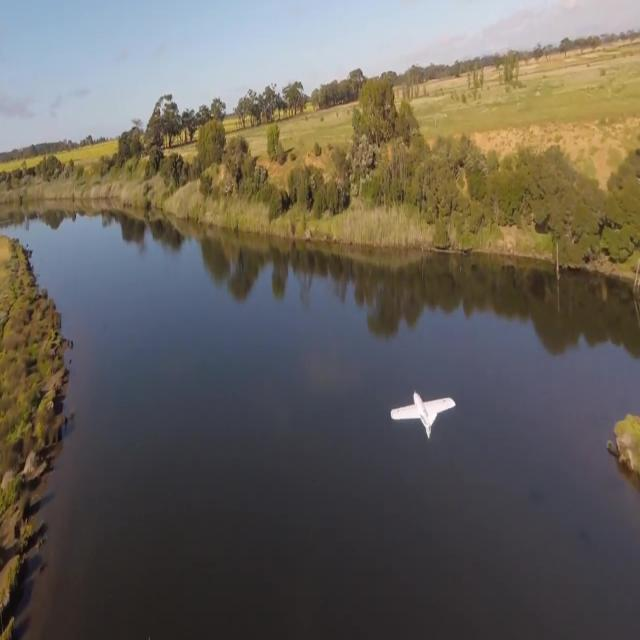iha: (421, 391, 424, 439)
